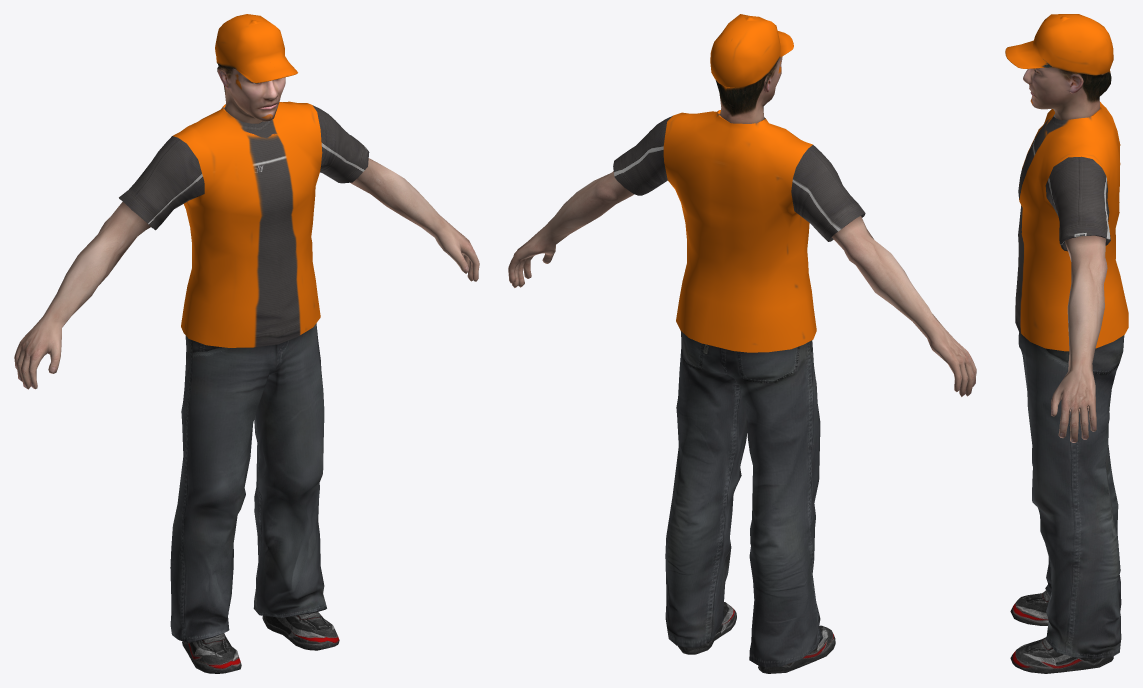
Rendered from casual12_m.fbx.
3 renders of one model, left to right at view 1: azimuth 30°, elevation 25°; view 2: azimuth 150°, elevation 25°; view 3: azimuth 270°, elevation 25°, orthographic.
Parts seen in each view (by area): view 1: casual12_m_highpoly; view 2: casual12_m_highpoly; view 3: casual12_m_highpoly.
Part boxes in pixels (x1,y1,x2,y2): casual12_m_highpoly: (14, 14, 479, 673); casual12_m_highpoly: (508, 14, 976, 673); casual12_m_highpoly: (1005, 14, 1128, 673).
Bounding box in the file's own units: 140 × 184 × 32.89.
